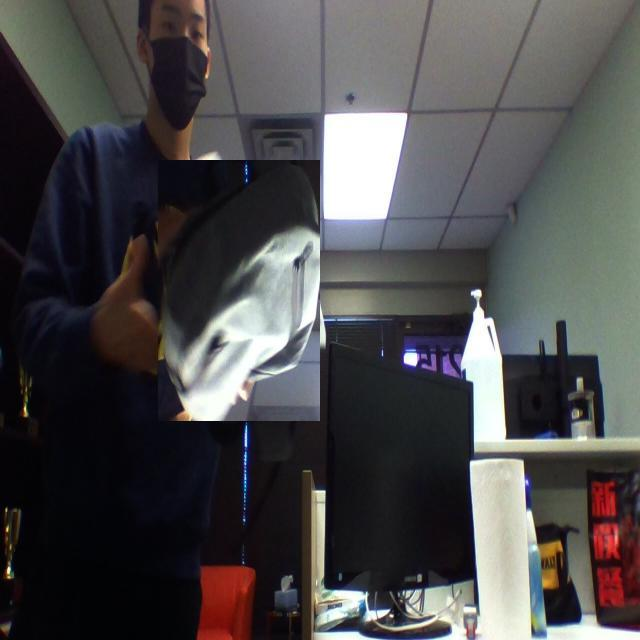Backpacks: (158, 160, 321, 422)
